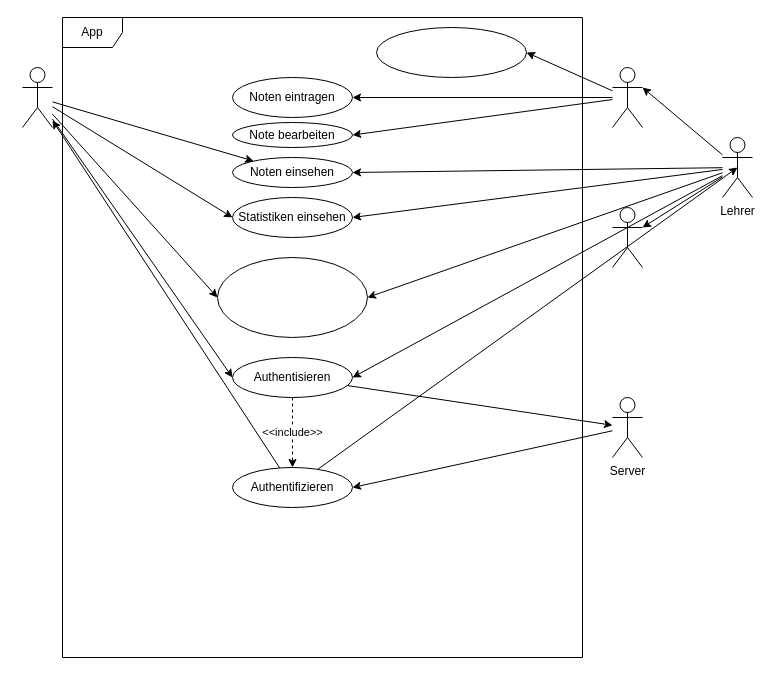
The diagram is 772 pixels wide and 675 high, and some of its shapes have lost their labels. The centre of each missing label's shape, as x and y in pixels:
Fachlehrer: (627,97)
Klassenlehrer: (627,237)
Leistungsüberprüfungen einsehen: (292,297)
Leistungsüberprüfungen planen: (451,52)
Schüler: (37,97)
